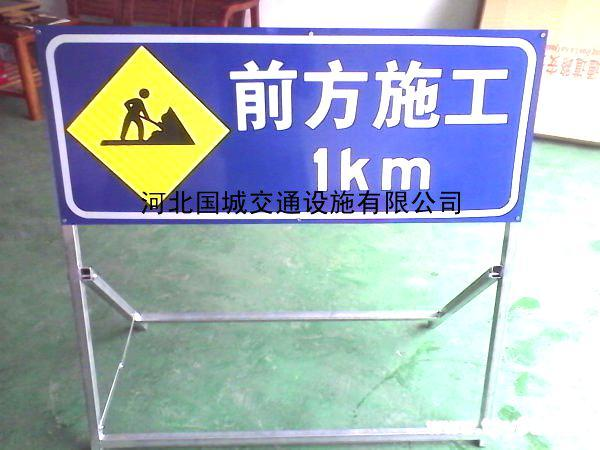sign: (45, 33, 525, 220)
